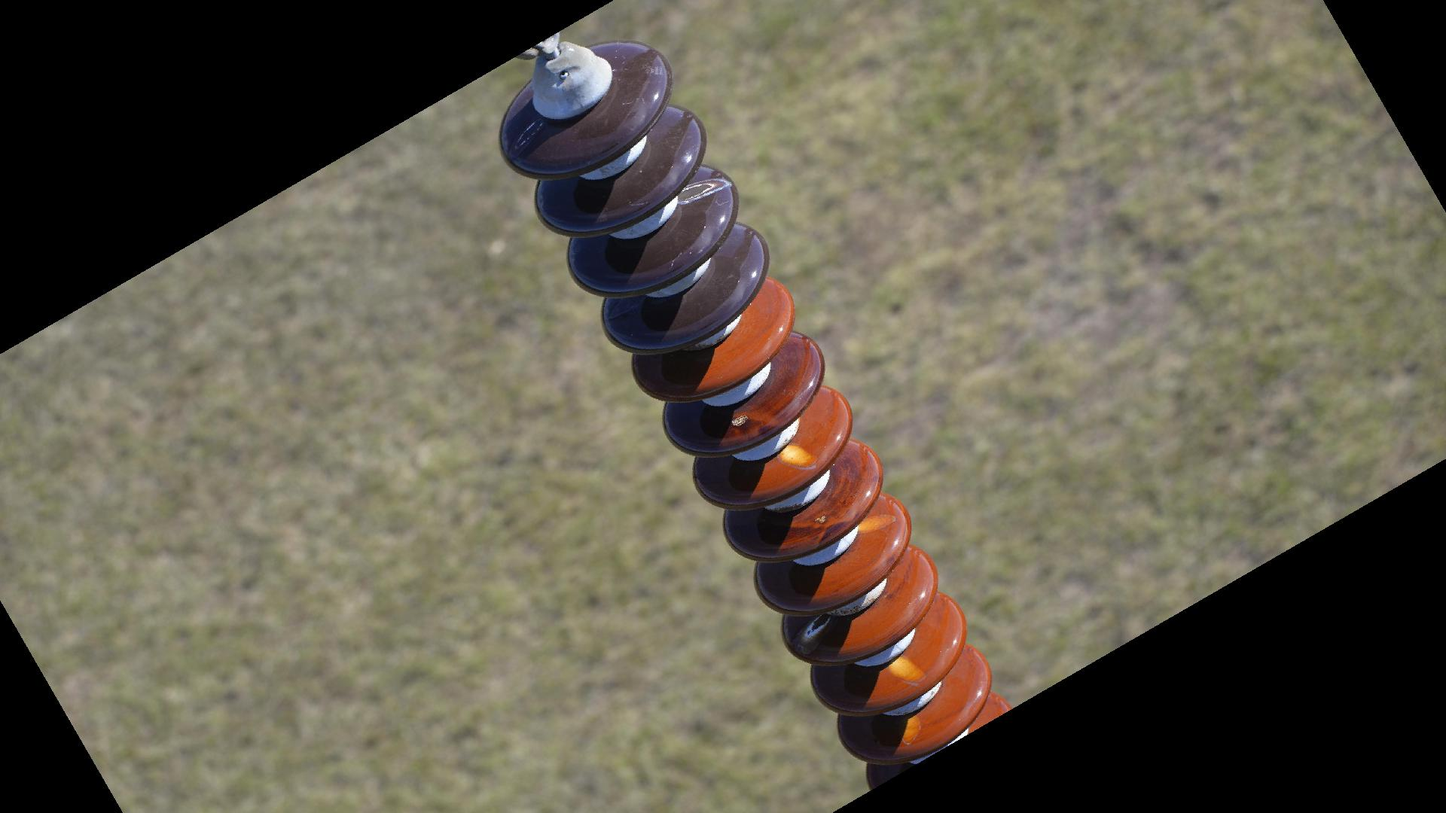insulator: (494, 36, 1014, 797)
insulator_flashover: (677, 174, 731, 206), (795, 609, 834, 652), (774, 441, 819, 474), (887, 656, 929, 687), (511, 116, 545, 154), (853, 511, 896, 535), (896, 712, 923, 748)
